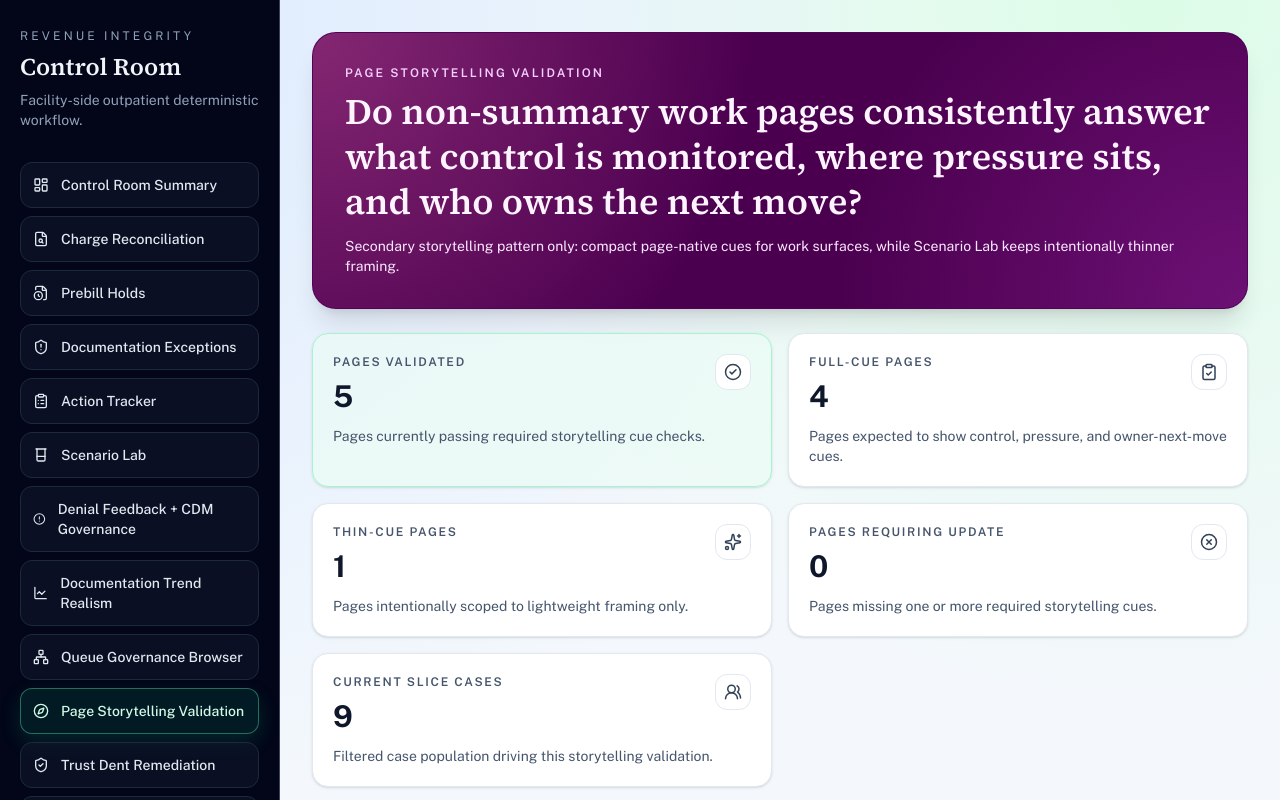
Test: Route persistence and operational slices › renders Trust Dent Remediation and shows remediated packaging ledger state
Click the link "Trust Dent Remediation": (140, 765) x1=20 y1=742 x2=259 y2=788
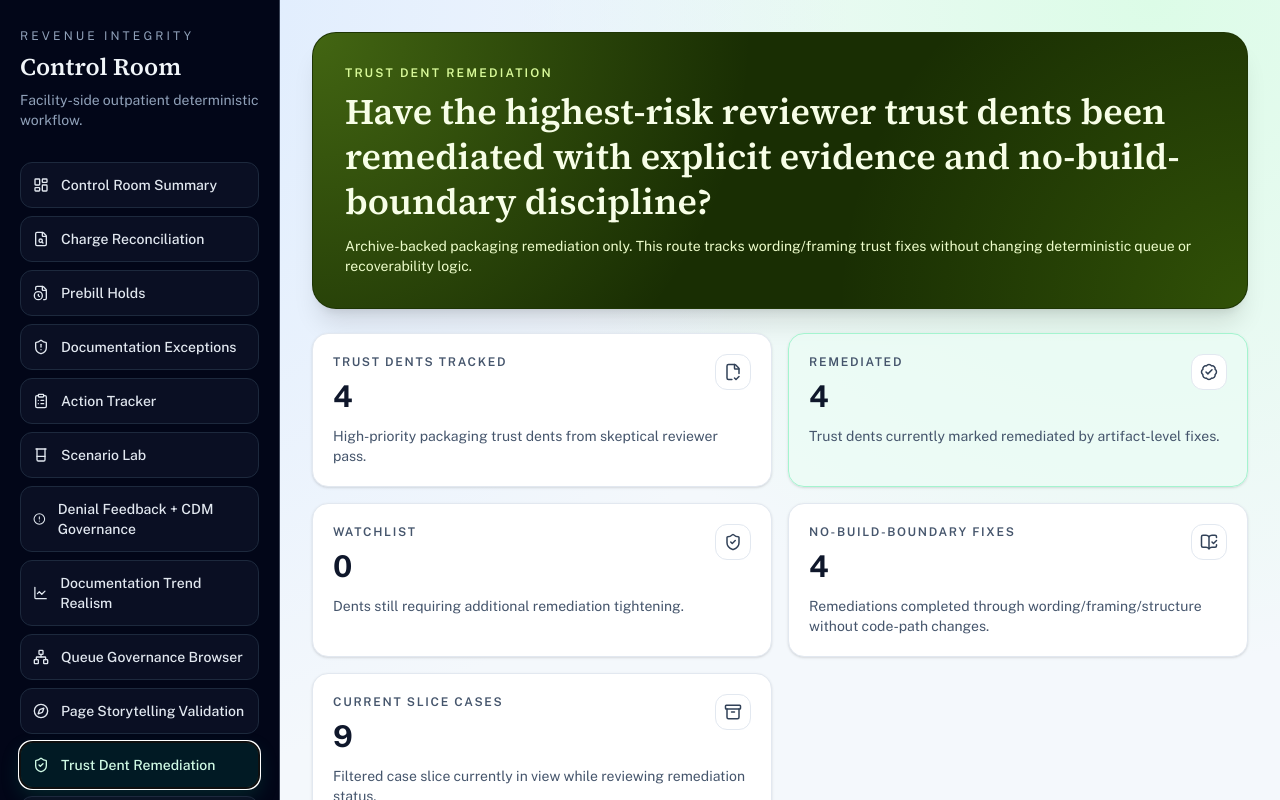
Now the heading "have the highest-risk reviewer trust dents been remediated with explicit evidence and no-build-boundary discipline" is shown, box x1=345 y1=87 x2=1180 y2=226
